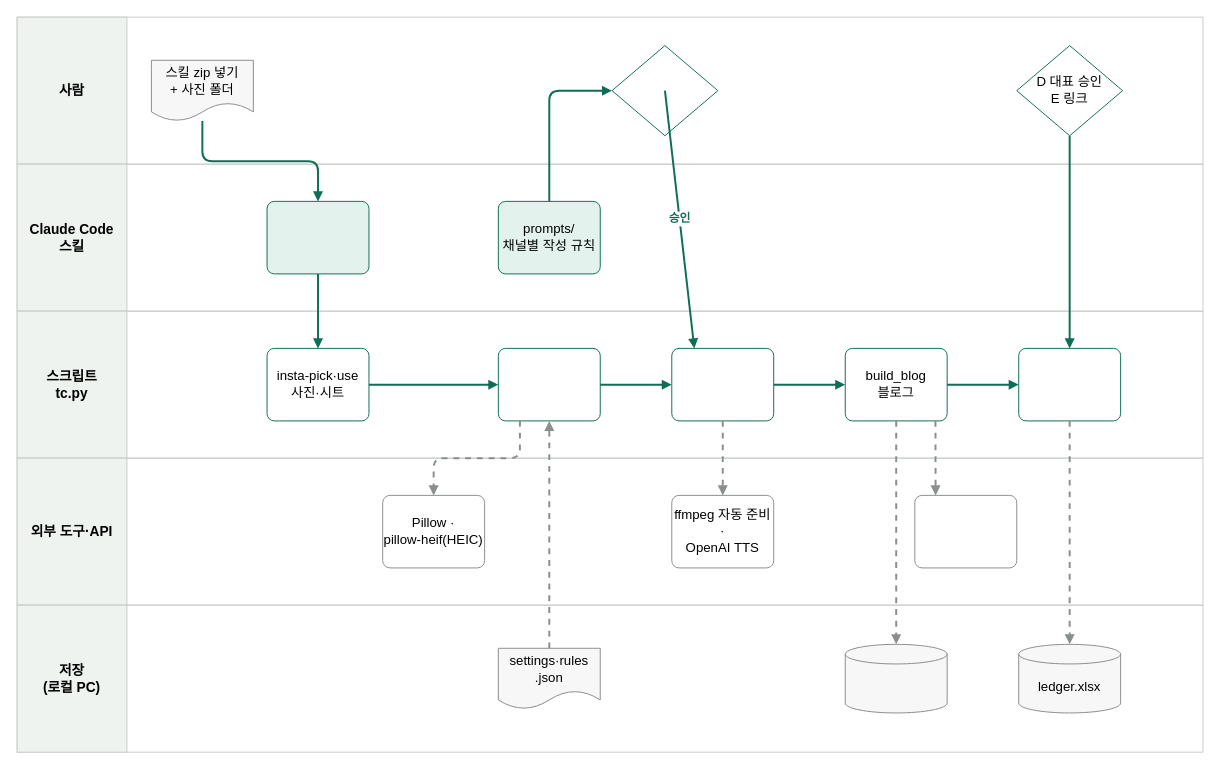
Some shapes in this 1220 by 769 pixel diagram are drawn without their labels. Each missing label, with the centre of its shape:
"check_rules state·ledger" goes at (x=1069, y=384).
"Mac say / Win 음성 (선택: Chrome)" goes at (x=965, y=531).
"make_shorts 숏폼" goes at (x=722, y=384).
"render_cards 인스타 카드" goes at (x=548, y=384).
"SKILL.md · setup.py 첫 준비" goes at (x=317, y=237).
"work/C-xxx/ 채널/vN" goes at (x=895, y=678).
"확인 지점 A·B·C 답" goes at (x=664, y=90).
